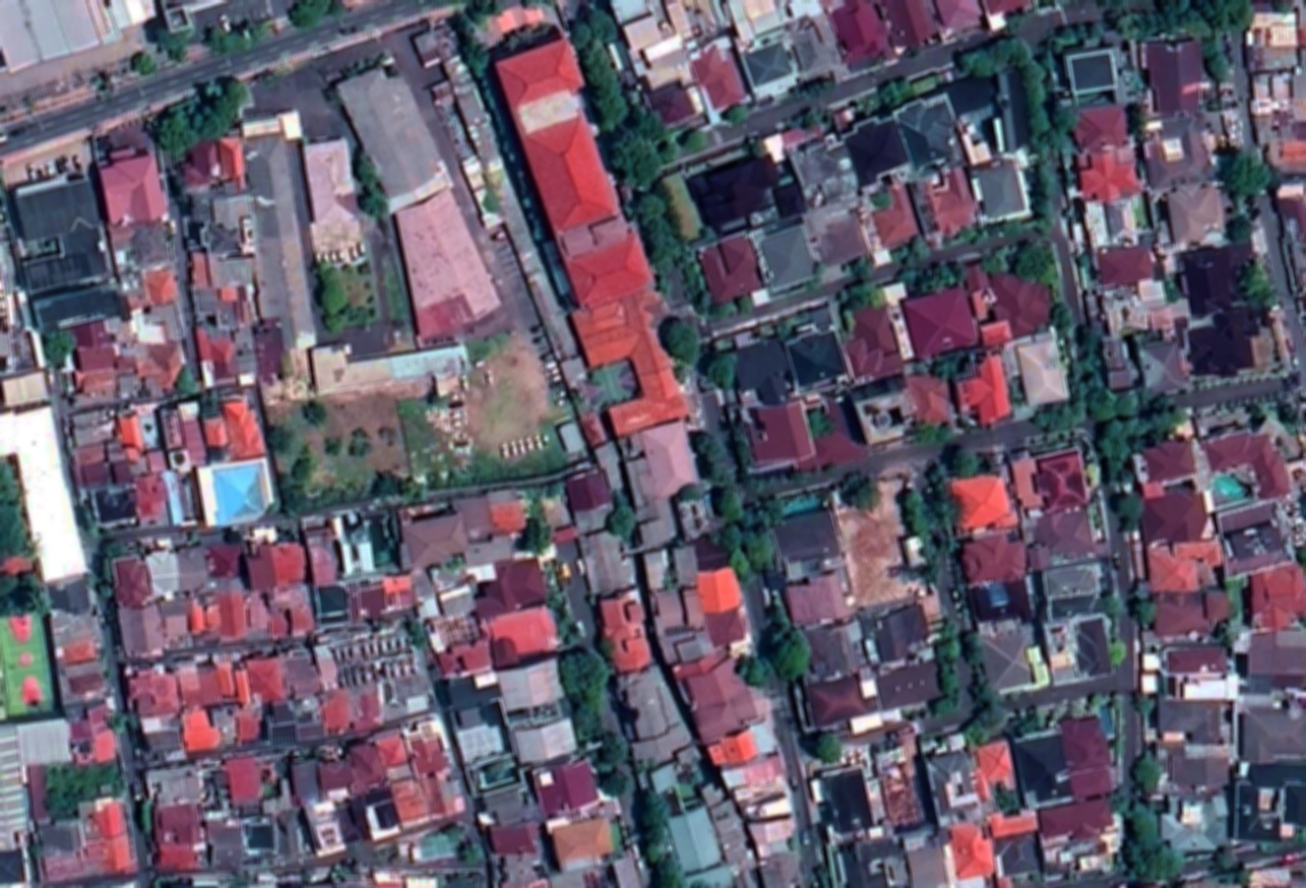building: (418, 35, 590, 389), (485, 29, 660, 312), (368, 184, 505, 351), (241, 107, 328, 350), (571, 284, 705, 439), (332, 56, 453, 212), (0, 400, 92, 585), (0, 169, 117, 298), (678, 134, 810, 247), (306, 317, 471, 399), (736, 386, 869, 479), (0, 0, 155, 73), (1198, 411, 1306, 509), (611, 656, 699, 765), (672, 653, 765, 747), (828, 282, 910, 387), (715, 323, 803, 418), (782, 110, 864, 210), (1209, 492, 1301, 579), (1003, 433, 1096, 519), (642, 562, 717, 668), (880, 90, 971, 177), (1179, 300, 1272, 382), (859, 585, 951, 667), (997, 324, 1079, 415), (588, 572, 658, 678), (906, 156, 987, 247), (458, 749, 541, 837), (1177, 232, 1265, 313), (1129, 423, 1217, 504), (763, 501, 849, 583), (1139, 108, 1226, 189), (897, 282, 984, 362), (315, 619, 418, 686), (12, 278, 133, 335), (193, 453, 287, 526), (594, 584, 666, 677), (1136, 35, 1216, 117), (307, 136, 365, 249), (1145, 626, 1230, 703), (686, 35, 761, 121), (545, 798, 632, 871), (1229, 763, 1306, 845), (779, 307, 851, 394), (750, 209, 825, 292), (608, 0, 690, 75), (480, 601, 564, 674), (1044, 609, 1122, 687), (977, 618, 1053, 698), (624, 448, 686, 546), (945, 465, 1022, 543), (49, 606, 110, 704), (854, 169, 925, 253), (851, 372, 927, 450), (840, 109, 916, 187), (868, 725, 927, 825), (950, 346, 1021, 429), (802, 195, 879, 271), (92, 144, 167, 222), (694, 227, 767, 306), (247, 576, 326, 649), (1024, 498, 1104, 570), (831, 0, 905, 77), (497, 653, 576, 723), (639, 418, 707, 499), (987, 264, 1055, 345), (742, 792, 806, 878), (640, 59, 715, 132), (956, 519, 1034, 589), (227, 524, 307, 592), (797, 669, 878, 736), (534, 297, 592, 390), (1031, 557, 1113, 622), (733, 29, 806, 102), (446, 481, 529, 545), (1107, 324, 1187, 390), (970, 148, 1038, 225), (785, 13, 852, 91), (1060, 710, 1119, 798), (925, 747, 988, 829), (1012, 723, 1072, 808), (693, 563, 752, 649), (1231, 701, 1306, 768), (560, 465, 628, 538), (1145, 535, 1226, 596), (1100, 276, 1177, 340), (392, 765, 469, 829), (531, 747, 604, 814), (699, 778, 755, 865), (957, 577, 1040, 635), (1138, 483, 1214, 546), (802, 615, 876, 679), (1149, 742, 1235, 797), (984, 63, 1036, 152), (1039, 794, 1119, 851), (470, 556, 548, 614), (786, 567, 860, 627), (969, 739, 1025, 818), (1157, 790, 1228, 852), (1246, 557, 1306, 630), (1240, 628, 1306, 694), (577, 525, 639, 595), (1145, 696, 1235, 744), (444, 670, 510, 734), (667, 802, 727, 872), (821, 763, 878, 836), (513, 712, 587, 768), (1076, 142, 1142, 204), (173, 650, 232, 719), (2, 723, 34, 850), (401, 511, 470, 569), (1064, 46, 1128, 108), (107, 217, 177, 273), (1163, 182, 1229, 241), (874, 657, 946, 711), (1252, 70, 1306, 139), (485, 812, 554, 866), (192, 581, 253, 641), (329, 505, 378, 578), (65, 700, 121, 763), (1086, 191, 1150, 246), (35, 818, 90, 882), (147, 539, 208, 596), (402, 712, 455, 777), (1065, 100, 1131, 152), (121, 662, 188, 713), (72, 439, 137, 491), (1149, 592, 1228, 634), (1247, 12, 1304, 70), (720, 752, 787, 801), (130, 706, 188, 762), (135, 336, 194, 391), (241, 645, 294, 705), (137, 466, 188, 528), (1145, 667, 1237, 701), (878, 0, 942, 48), (121, 264, 186, 311), (371, 724, 420, 786), (114, 599, 166, 657), (946, 67, 1005, 118), (434, 638, 498, 685), (221, 398, 269, 460), (422, 603, 484, 651), (377, 670, 436, 719), (300, 797, 348, 857), (302, 512, 341, 584), (1098, 240, 1158, 286), (317, 741, 364, 799), (13, 718, 72, 764), (107, 553, 155, 609), (706, 726, 762, 774), (344, 734, 388, 795), (43, 572, 97, 621), (88, 482, 142, 531), (221, 751, 268, 807), (133, 300, 188, 347), (695, 563, 744, 614), (671, 644, 733, 684), (723, 1, 793, 36), (343, 573, 391, 624), (749, 811, 801, 858), (68, 404, 122, 449), (220, 698, 265, 752), (79, 791, 134, 835), (330, 793, 374, 848), (674, 0, 734, 40), (457, 721, 513, 763), (460, 531, 517, 572), (913, 370, 955, 425), (361, 786, 403, 840), (252, 319, 288, 382), (175, 401, 209, 467), (194, 251, 254, 288), (149, 804, 200, 847), (948, 816, 1001, 856), (201, 529, 245, 577), (77, 834, 132, 872), (180, 703, 227, 747), (1274, 179, 1306, 243), (282, 644, 322, 695), (319, 682, 359, 732), (187, 284, 241, 321), (0, 368, 51, 407), (145, 763, 197, 801), (902, 819, 945, 864), (675, 494, 715, 542), (349, 683, 388, 731), (199, 356, 261, 386), (161, 0, 219, 32), (931, 0, 984, 35), (68, 366, 121, 401), (74, 341, 124, 378), (263, 697, 299, 747), (381, 566, 419, 612), (1267, 133, 1306, 177), (70, 317, 119, 352), (691, 531, 730, 574), (427, 555, 471, 593), (243, 809, 279, 855), (115, 410, 146, 463), (194, 323, 242, 357), (189, 233, 252, 258), (161, 595, 198, 637), (436, 582, 478, 619), (539, 490, 574, 534), (291, 751, 323, 799), (652, 586, 686, 631), (854, 828, 910, 855), (991, 806, 1042, 835), (200, 412, 237, 450), (203, 823, 244, 857), (577, 407, 611, 448), (554, 416, 588, 457), (319, 582, 349, 628), (641, 548, 673, 591), (671, 542, 701, 587), (646, 760, 683, 796), (276, 807, 303, 855), (669, 740, 704, 777), (293, 697, 326, 736), (674, 632, 714, 664), (747, 716, 779, 756), (161, 843, 204, 868), (960, 258, 991, 292), (408, 565, 436, 601), (980, 317, 1016, 344), (548, 521, 579, 550), (980, 0, 1027, 14), (870, 260, 899, 281), (613, 460, 620, 490)
tree: (594, 117, 671, 199), (559, 642, 622, 737), (1209, 135, 1281, 205), (177, 84, 240, 147), (761, 622, 822, 684), (145, 98, 205, 160), (579, 723, 639, 782), (957, 33, 1035, 78), (0, 457, 35, 557), (652, 310, 712, 367), (961, 692, 1017, 750), (1234, 254, 1286, 313), (640, 213, 690, 274), (1091, 408, 1148, 461), (585, 76, 636, 133), (673, 242, 713, 314), (46, 754, 122, 791), (1031, 389, 1089, 437), (1006, 236, 1062, 285), (691, 427, 736, 487), (1136, 391, 1192, 438), (1122, 842, 1184, 884), (351, 146, 388, 216), (578, 0, 625, 48), (729, 645, 776, 692), (598, 492, 644, 540), (285, 0, 351, 33), (639, 790, 670, 860), (546, 593, 586, 646), (211, 68, 256, 115), (38, 324, 83, 370), (314, 261, 350, 316), (577, 40, 619, 87), (923, 485, 967, 529), (844, 470, 888, 513), (1, 572, 45, 615), (456, 31, 498, 76), (1125, 748, 1168, 791), (945, 441, 990, 481), (223, 17, 273, 53), (740, 526, 779, 572), (875, 71, 919, 110), (900, 487, 930, 543), (1032, 159, 1055, 232), (1131, 799, 1162, 852), (701, 349, 741, 390), (1195, 0, 1255, 27), (274, 470, 310, 515), (1159, 0, 1208, 32), (811, 729, 850, 768), (630, 188, 669, 227), (928, 348, 976, 379), (889, 235, 934, 268), (993, 776, 1028, 818), (727, 418, 755, 470), (1069, 367, 1107, 405), (1267, 395, 1306, 432), (1048, 94, 1085, 133), (710, 519, 749, 556), (563, 15, 600, 53), (517, 519, 555, 556), (636, 105, 672, 144), (461, 0, 511, 27), (1135, 3, 1172, 38), (171, 363, 206, 400), (726, 547, 760, 585), (454, 837, 490, 872), (1100, 454, 1138, 487), (306, 486, 360, 509), (1022, 59, 1050, 103), (200, 22, 235, 57), (747, 469, 808, 489), (899, 266, 942, 294), (605, 762, 635, 802), (1115, 492, 1147, 529), (366, 470, 404, 501), (758, 492, 791, 526), (1085, 388, 1120, 420), (653, 851, 684, 887), (71, 498, 102, 534), (786, 103, 830, 128), (1114, 9, 1148, 41), (1132, 594, 1164, 627), (937, 658, 966, 694), (932, 634, 964, 666), (805, 406, 837, 438), (448, 12, 479, 44), (1203, 50, 1236, 80), (801, 74, 839, 100), (931, 688, 965, 717), (764, 600, 793, 634), (716, 485, 744, 520), (654, 135, 685, 166), (402, 475, 434, 505), (970, 678, 1003, 707), (165, 27, 194, 60), (1074, 347, 1105, 377), (979, 246, 1010, 276), (134, 799, 160, 834), (293, 444, 314, 487), (1124, 104, 1149, 140), (739, 504, 770, 533), (265, 423, 294, 454), (194, 387, 223, 418), (1225, 213, 1258, 240), (960, 631, 985, 666), (1073, 323, 1103, 352), (1044, 123, 1074, 152), (91, 550, 118, 582), (1023, 128, 1052, 157), (297, 398, 329, 424), (338, 299, 370, 325), (1203, 24, 1228, 57), (720, 100, 753, 125), (913, 423, 954, 443), (843, 280, 870, 310), (863, 275, 889, 306), (347, 424, 373, 455), (1131, 689, 1159, 717), (481, 757, 511, 783), (663, 208, 684, 245), (1114, 388, 1145, 413), (1049, 305, 1078, 331), (1211, 842, 1238, 869), (1001, 214, 1028, 241), (1109, 792, 1135, 819), (374, 419, 401, 445), (107, 710, 132, 738), (42, 787, 67, 815), (403, 618, 427, 647), (1031, 101, 1053, 132), (937, 260, 964, 285), (916, 558, 943, 583), (653, 180, 678, 207), (438, 817, 467, 840), (1106, 638, 1132, 663), (682, 127, 708, 152), (103, 537, 130, 559), (677, 482, 708, 501), (919, 533, 940, 561), (322, 431, 346, 455), (595, 632, 618, 657), (1015, 713, 1041, 735), (1005, 9, 1033, 29), (629, 96, 652, 120), (707, 300, 736, 319), (1056, 22, 1079, 45), (958, 227, 991, 243), (847, 257, 871, 279), (61, 789, 83, 813), (1233, 863, 1255, 886), (1040, 68, 1062, 91), (802, 272, 826, 292), (1214, 624, 1236, 645), (323, 310, 341, 335), (1165, 280, 1186, 301), (870, 185, 890, 207), (1099, 0, 1130, 13), (1047, 33, 1067, 53), (1220, 576, 1244, 592), (1255, 837, 1276, 855), (1104, 597, 1122, 618), (739, 294, 757, 314), (941, 621, 960, 639), (97, 578, 115, 597), (78, 783, 97, 800), (1272, 0, 1294, 14), (1088, 21, 1106, 38), (1040, 52, 1056, 70), (1030, 871, 1046, 887), (1075, 22, 1090, 39), (937, 733, 953, 748), (912, 362, 930, 375), (657, 276, 672, 291), (777, 325, 793, 339), (931, 465, 945, 481), (1110, 737, 1125, 751), (1091, 692, 1105, 705), (111, 781, 124, 793), (1012, 876, 1024, 888), (1112, 697, 1124, 707), (1298, 830, 1306, 844)
